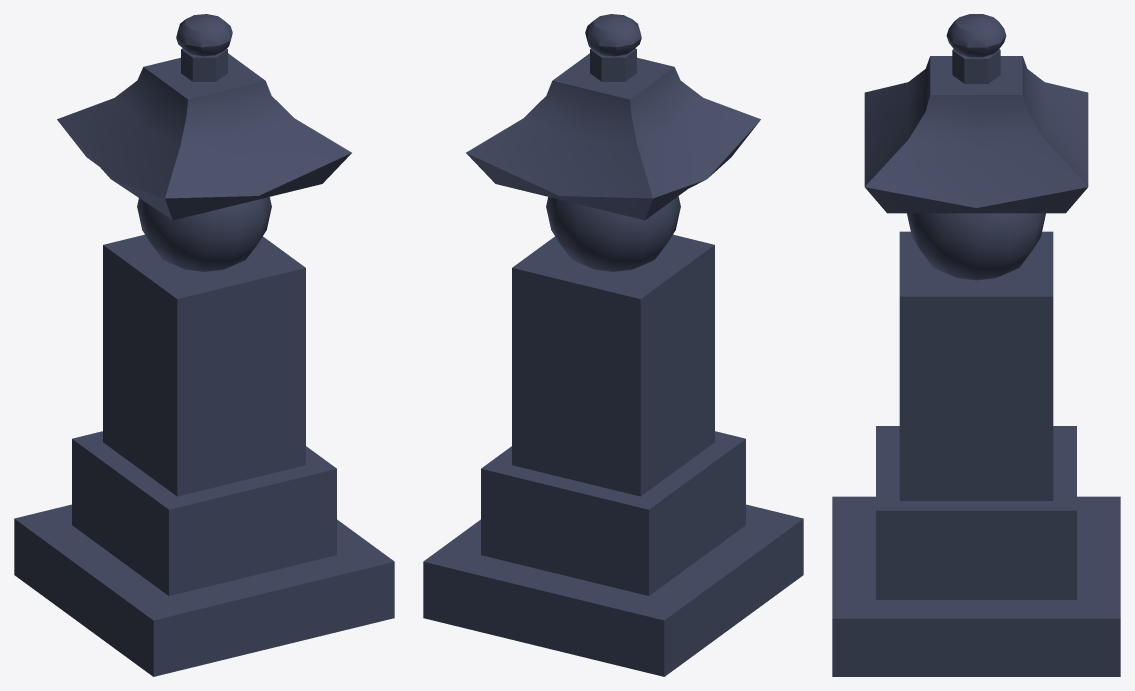
Rendered from J2Tomb.fbx.
3 renders of one model, left to right at view 1: azimuth 30°, elevation 25°; view 2: azimuth 150°, elevation 25°; view 3: azimuth 270°, elevation 25°, orthographic. The views are drawn at different scales.
Visible parts, largest first — view 1: J2Tomb; view 2: J2Tomb; view 3: J2Tomb.
Part boxes in pixels (<box>): J2Tomb: <box>14,14,394,676</box>; J2Tomb: <box>423,14,803,676</box>; J2Tomb: <box>832,14,1120,676</box>.
Size of the model in its own units: 200 by 458 by 200.
